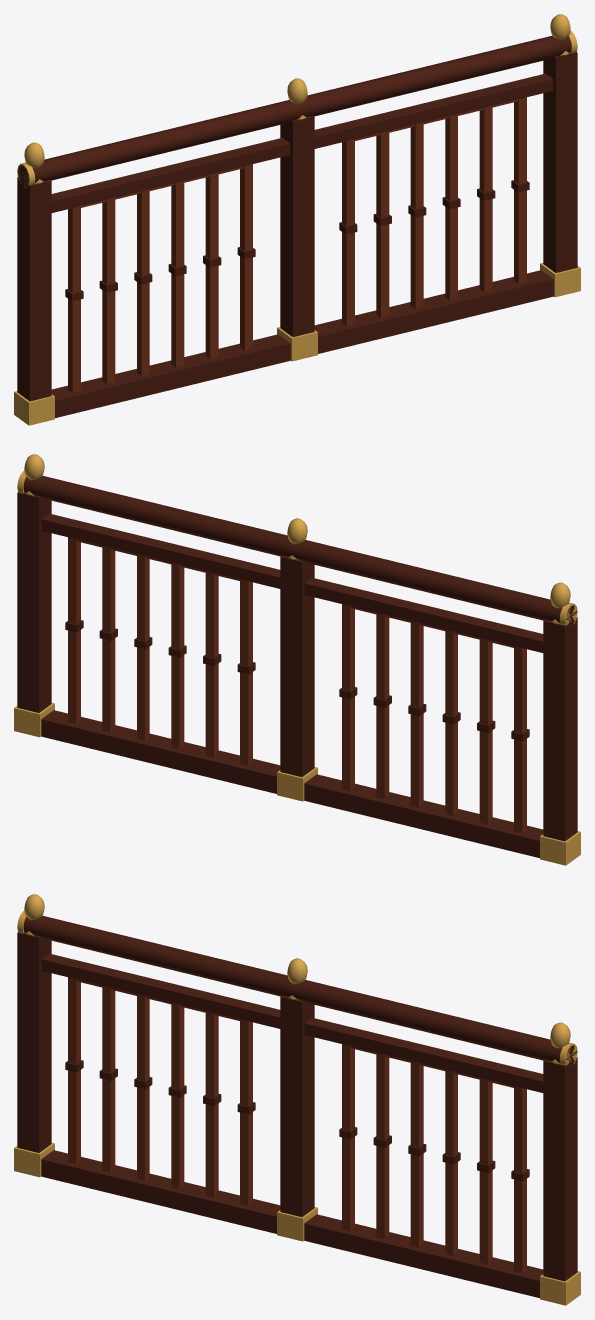
Rendered from pal1-inn-railing.glb.
The picture shows the model from 3 angles, top to bottom: view 1: azimuth 30°, elevation 25°; view 2: azimuth 150°, elevation 25°; view 3: azimuth 330°, elevation 25°; orthographic projection.
Parts seen in each view (by area): view 1: Pal1InnRailing; view 2: Pal1InnRailing; view 3: Pal1InnRailing.
Boxes of the visible parts, box(x1,y1,x2,y2) form: Pal1InnRailing: box(14, 14, 580, 425); Pal1InnRailing: box(14, 454, 580, 865); Pal1InnRailing: box(14, 894, 580, 1305).
Size of the model in its own units: 2.01 by 0.9554 by 0.095.
